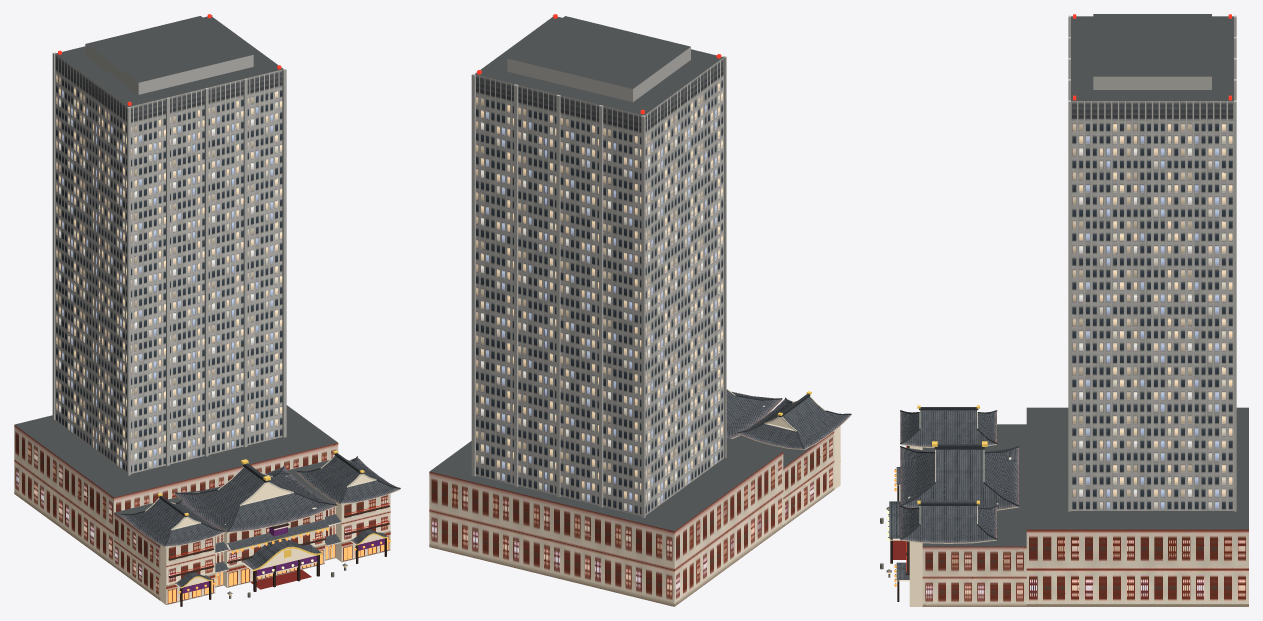
Rendered from kabukiza.glb.
3 renders of one model, left to right at view 1: azimuth 30°, elevation 25°; view 2: azimuth 150°, elevation 25°; view 3: azimuth 270°, elevation 25°, orthographic. The views are drawn at different scales.
Parts seen in each view (by area): view 1: kabukiza; view 2: kabukiza; view 3: kabukiza.
Boxes of the visible parts, x1,y1,x2,y2 form: kabukiza: (14,14,400,606); kabukiza: (429,14,851,606); kabukiza: (880,14,1248,606).
Size of the model in its own units: 82.21 by 149 by 99.5.
Materials: 2 (2 with a texture image).
